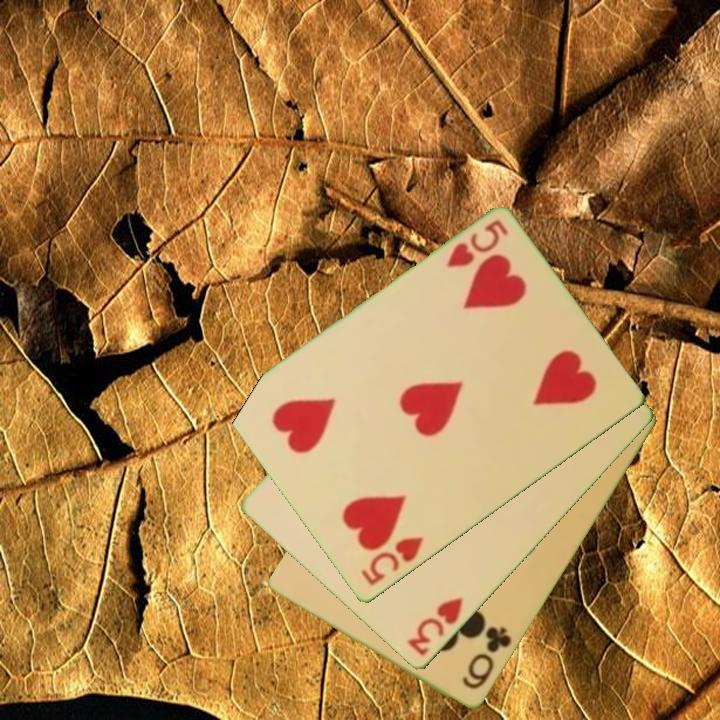3h: (404, 594, 466, 659)
5h: (357, 533, 427, 589), (443, 216, 512, 272)
6c: (459, 623, 515, 693)
